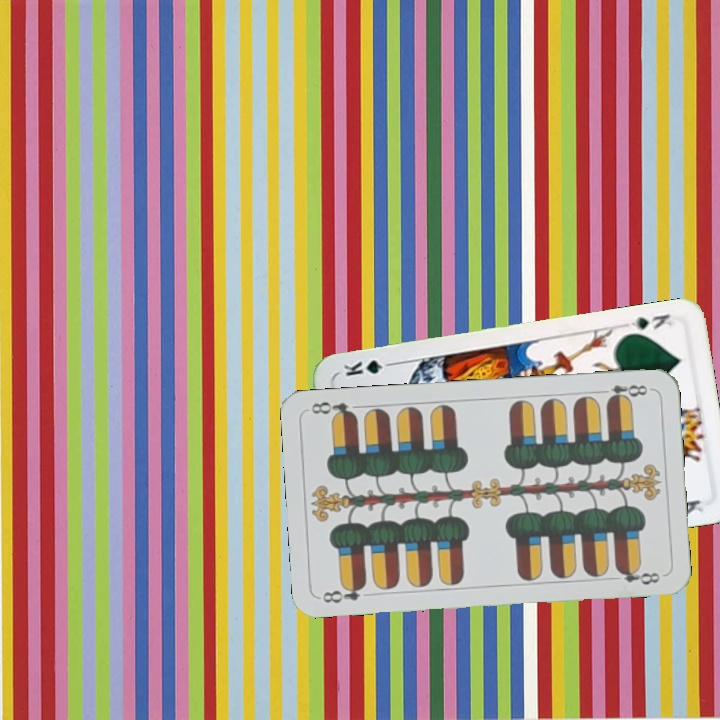E8: (594, 380, 650, 405), (319, 579, 369, 606)
GK: (627, 310, 674, 332)
